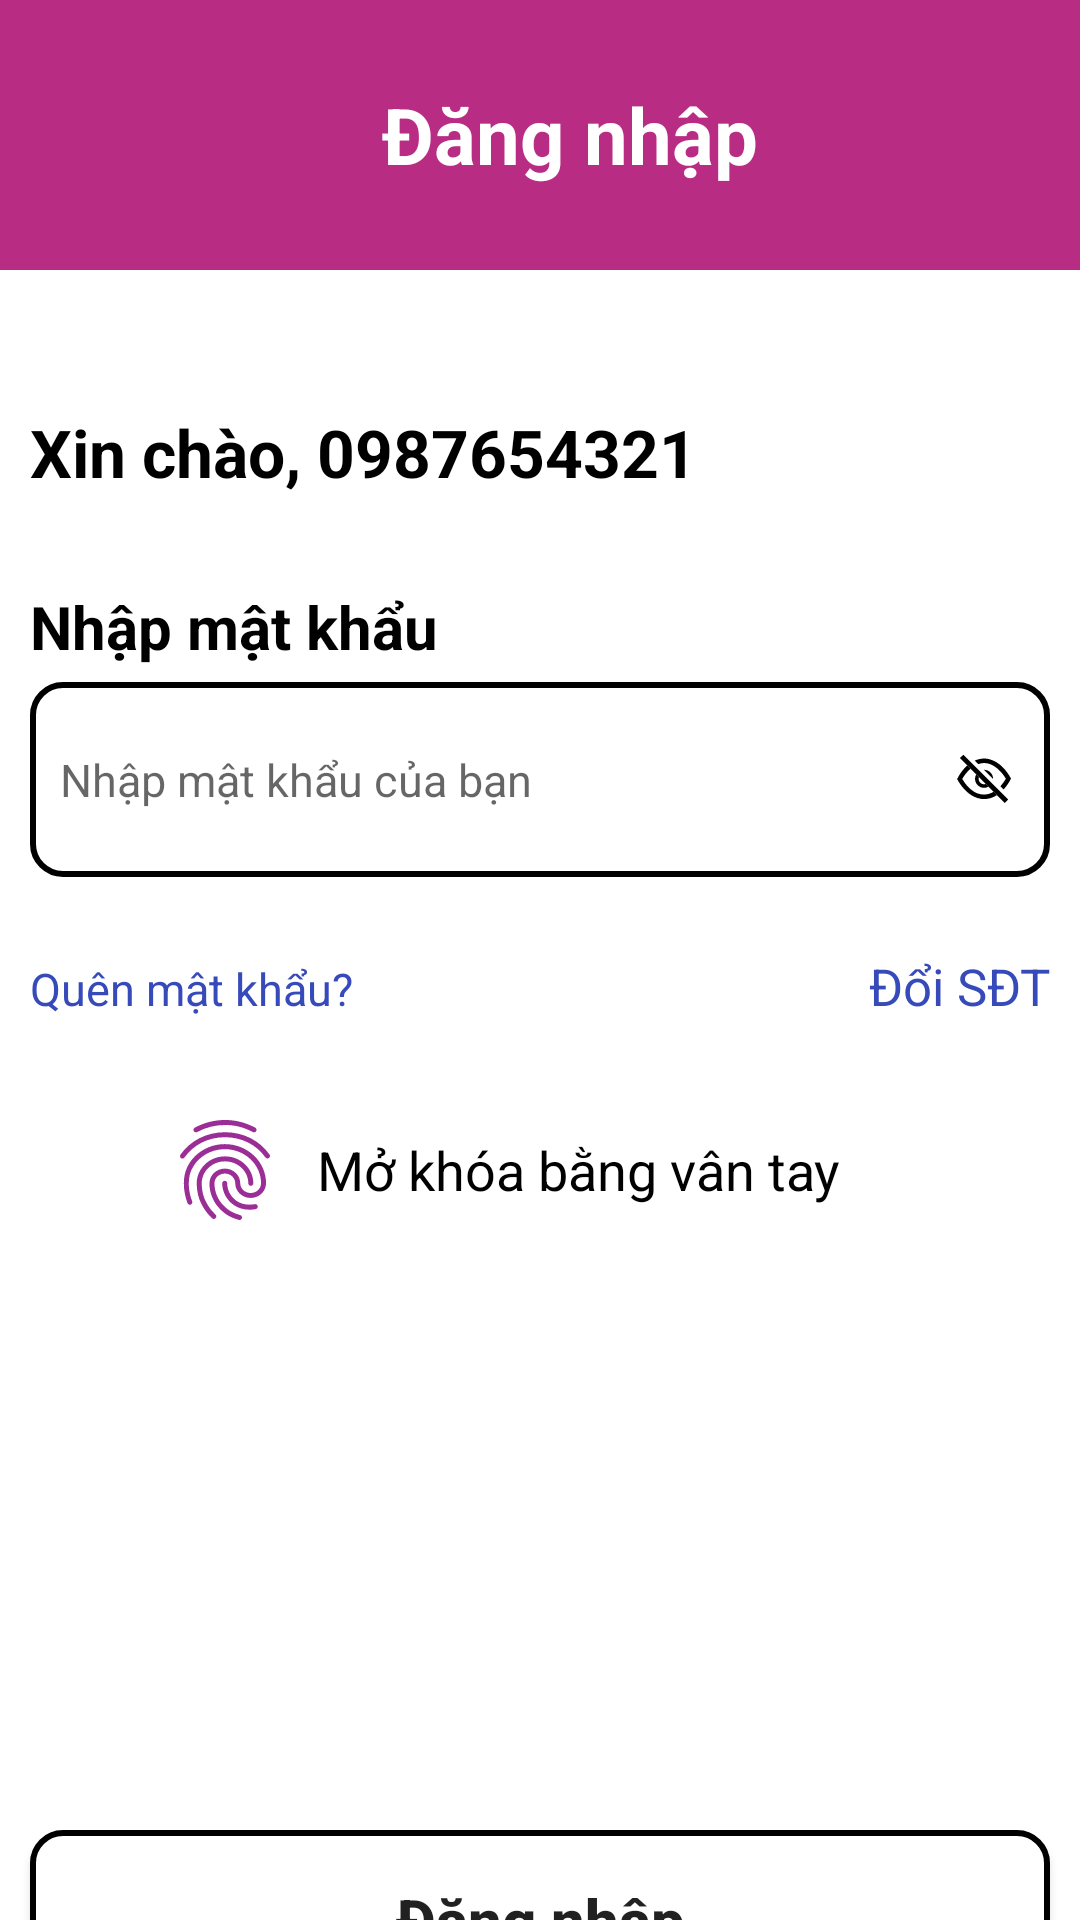

Screen size 1080 x 1920. Icon name, then its center in pixels as [x,y]:
fingerprint: [225,1170]
